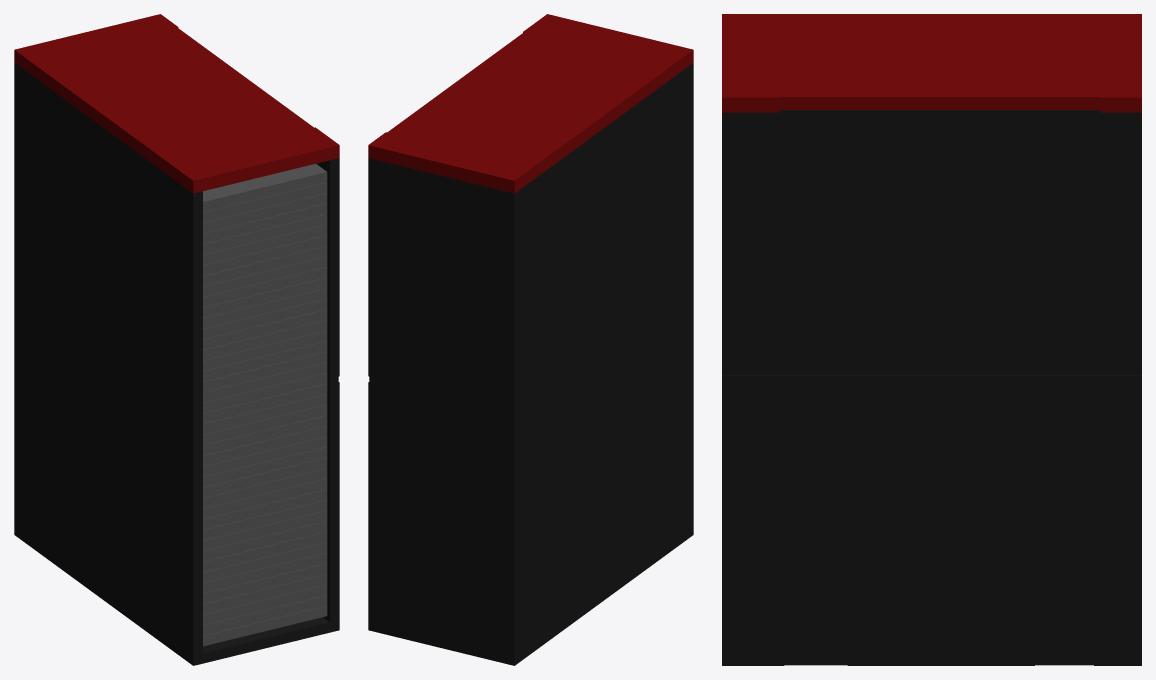
Rendered from newnewnewserver.glb.
3 renders of one model, left to right at view 1: azimuth 30°, elevation 25°; view 2: azimuth 150°, elevation 25°; view 3: azimuth 270°, elevation 25°, orthographic. The views are drawn at different scales.
Parts seen in each view (by area): view 1: server rack, Component28 (×42), top; view 2: server rack, top; view 3: server rack, top.
Part boxes in pixels (x1,y1,x2,y2): server rack: (14,63,339,665); Component28 (×42): (203,164,327,646); top: (14,14,339,193); server rack: (368,63,693,665); top: (368,14,693,193); server rack: (722,110,1141,665); top: (722,14,1141,112).
Size of what is drawn, in the model's own units: 0.6 by 1.9 by 1.27.
